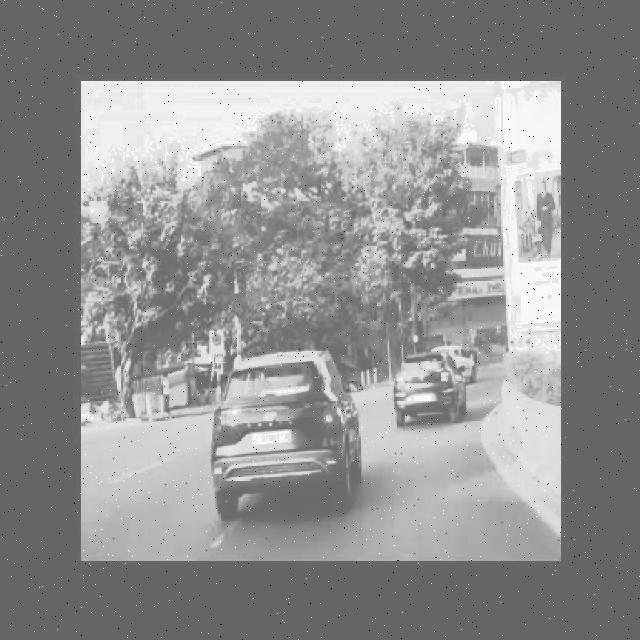Car: (197, 334, 372, 531), (388, 344, 478, 434)
